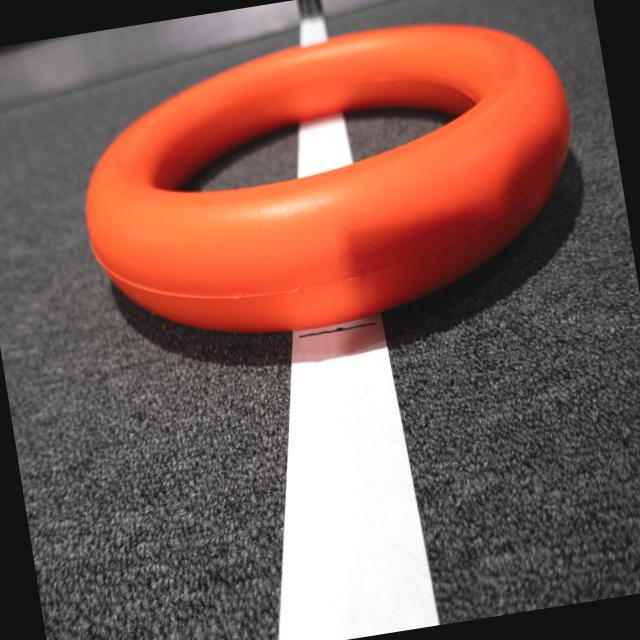note: (52, 0, 602, 372)
